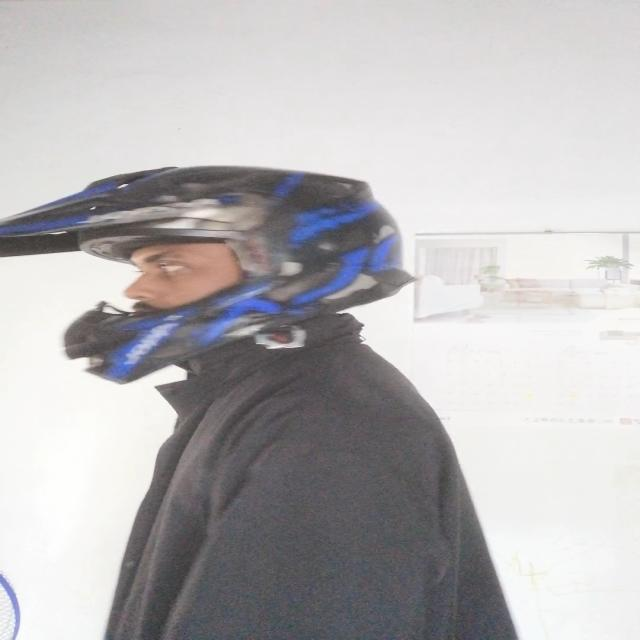Helmet_Wearer: (2, 156, 434, 389)
Jacket_Wearer: (45, 317, 530, 640)
Person: (70, 151, 529, 640)
